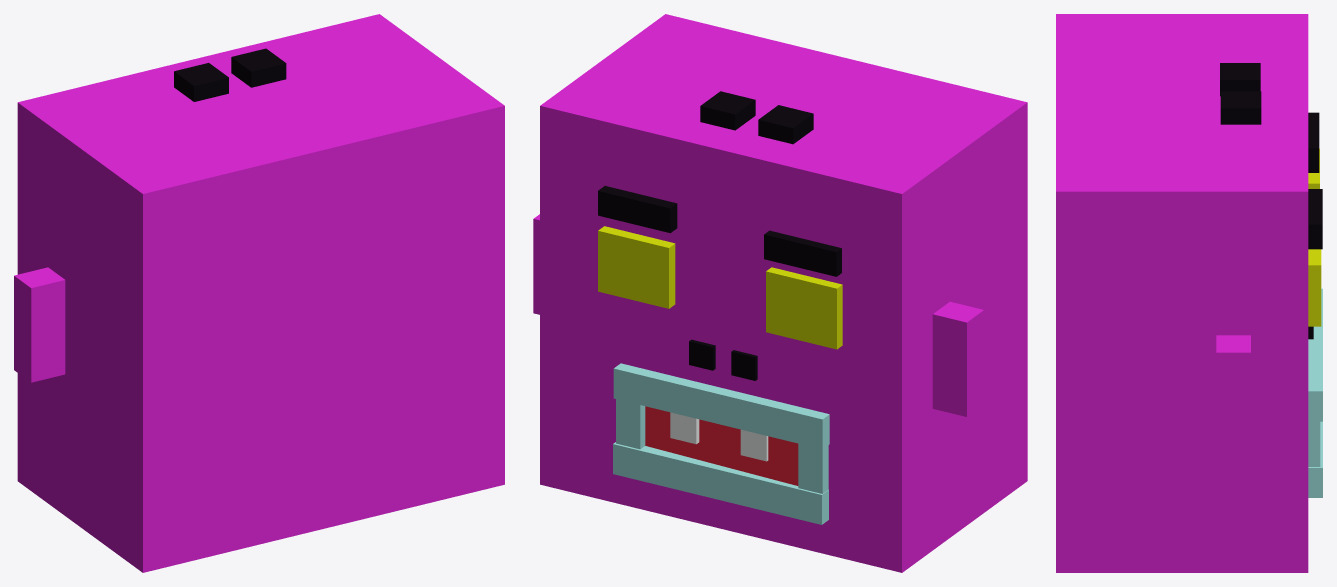
The model's file is zombie_morado_cortado.fbx.
The picture shows the model from 3 angles, left to right: view 1: azimuth 30°, elevation 25°; view 2: azimuth 150°, elevation 25°; view 3: azimuth 270°, elevation 25°; orthographic projection.
Parts seen in each view (by area): view 1: Plano, Plano.001; view 2: Plano, Plano.001; view 3: Plano.001, Plano.
Boxes of the visible parts, box(x1,y1,x2,y2) form: Plano: box(14, 58, 323, 572); Plano.001: box(197, 14, 504, 528); Plano: box(714, 58, 1027, 572); Plano.001: box(533, 14, 847, 528); Plano.001: box(1056, 91, 1322, 572); Plano: box(1056, 14, 1322, 341).
Bounding box in the file's own units: 238 × 208 × 127.
